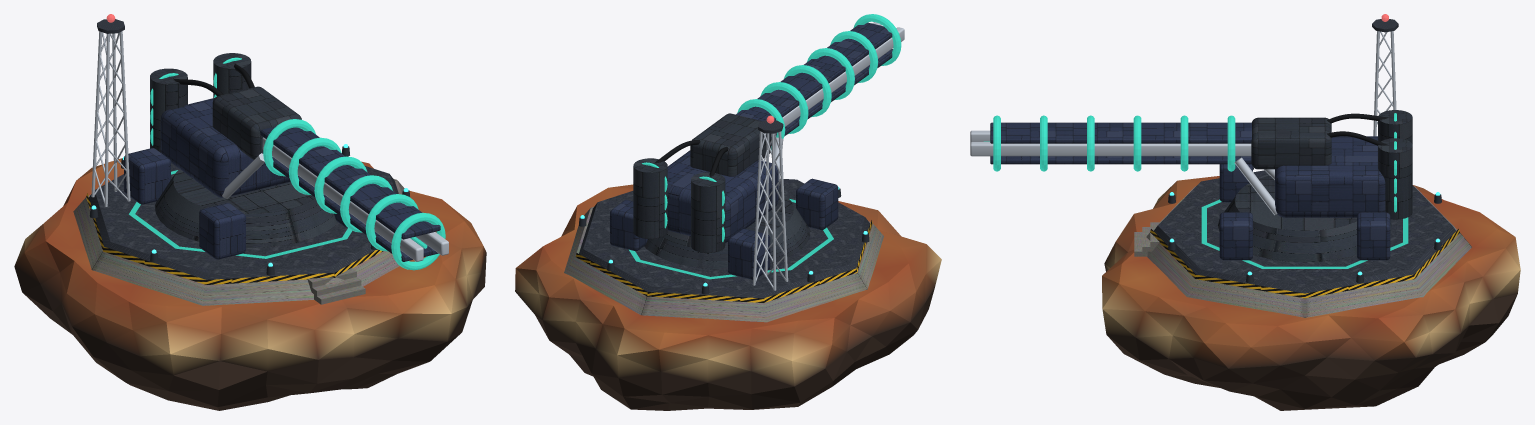
The model's file is railgun-L100.glb.
3 views of the same model, side by side, from view 1: azimuth 30°, elevation 25°; view 2: azimuth 150°, elevation 25°; view 3: azimuth 270°, elevation 25° (orthographic). The views are drawn at different scales.
Visible parts, largest first — view 1: object 1, anim:rc, object 4, anim:yaw, object 25, object 2, object 27, object 28, object 3, object 5, object 22, object 23; view 2: object 1, anim:rc, object 4, anim:yaw, object 2, object 25, object 27, object 3, object 28, object 29, object 5; view 3: object 1, anim:rc, anim:yaw, object 4, object 2, object 25, object 3, object 26, object 29, object 5, object 27.
Part boxes in pixels (bbox=[...]): object 1: bbox=[14, 158, 486, 410]; anim:rc: bbox=[212, 86, 448, 270]; object 4: bbox=[89, 163, 398, 279]; anim:yaw: bbox=[150, 53, 290, 198]; object 25: bbox=[155, 169, 338, 247]; object 2: bbox=[73, 178, 409, 305]; object 27: bbox=[199, 203, 245, 259]; object 28: bbox=[124, 148, 170, 204]; object 3: bbox=[86, 193, 383, 284]; object 5: bbox=[129, 170, 352, 258]; object 22: bbox=[314, 285, 365, 304]; object 23: bbox=[309, 277, 361, 295]; object 1: bbox=[515, 184, 941, 410]; anim:rc: bbox=[690, 14, 904, 176]; object 4: bbox=[579, 179, 869, 298]; anim:yaw: bbox=[633, 137, 783, 252]; object 2: bbox=[564, 207, 883, 322]; object 25: bbox=[644, 191, 810, 269]; object 27: bbox=[796, 178, 838, 230]; object 3: bbox=[575, 220, 872, 302]; object 28: bbox=[728, 228, 770, 279]; object 29: bbox=[610, 200, 647, 251]; object 5: bbox=[629, 199, 833, 279]; object 1: bbox=[1102, 176, 1520, 410]; anim:rc: bbox=[970, 115, 1331, 171]; anim:yaw: bbox=[1234, 110, 1412, 219]; object 4: bbox=[1154, 170, 1455, 293]; object 2: bbox=[1146, 186, 1471, 317]; object 25: bbox=[1218, 175, 1391, 262]; object 3: bbox=[1150, 229, 1459, 298]; object 26: bbox=[1219, 212, 1252, 260]; object 29: bbox=[1357, 212, 1390, 260]; object 5: bbox=[1201, 199, 1408, 268]; object 27: bbox=[1219, 164, 1252, 202].
Bounding box in the file's own units: 6.1 × 4.96 × 8.22.
13 materials, 5 textured.
